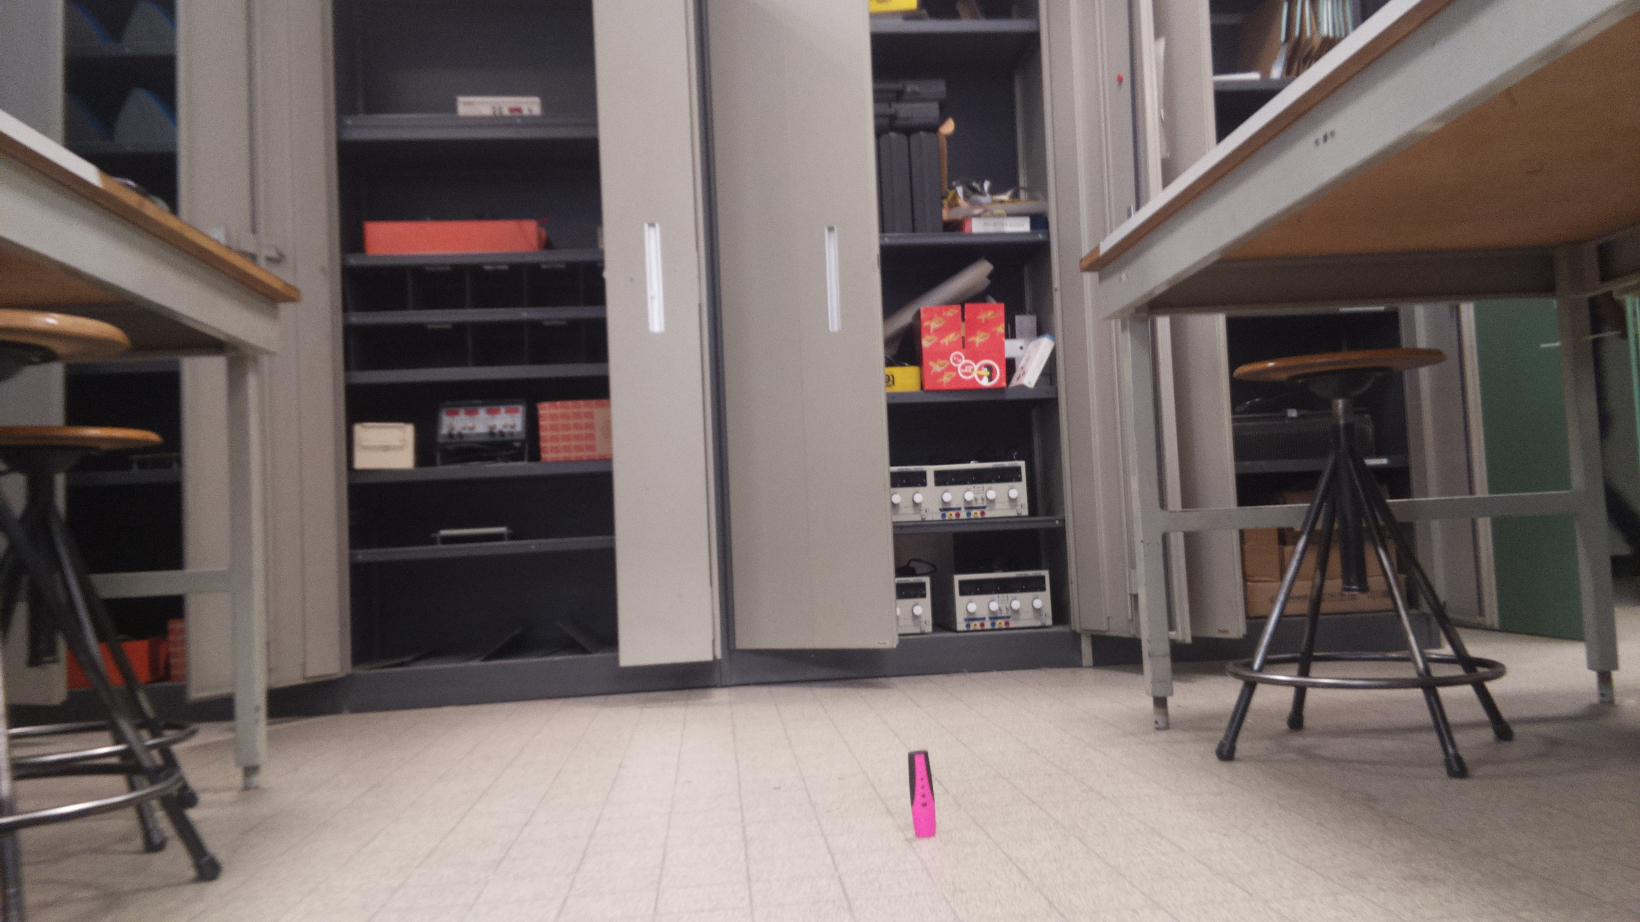small: (904, 748, 941, 839)
